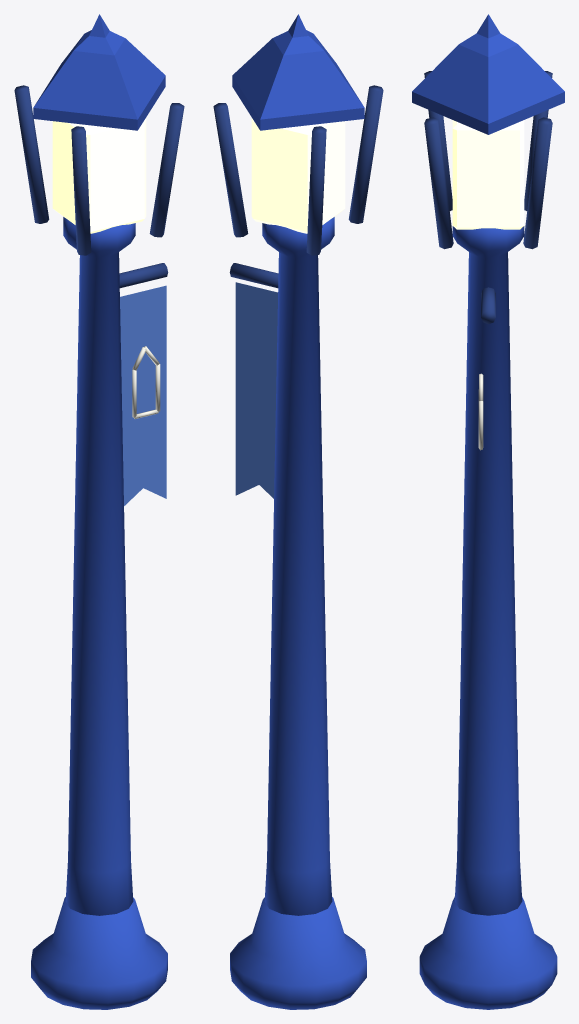
File: prop_lamp.glb
3 views of the same model, side by side, from view 1: azimuth 30°, elevation 25°; view 2: azimuth 150°, elevation 25°; view 3: azimuth 270°, elevation 25° (orthographic).
Visible parts, largest first — view 1: structure.003; view 2: structure.003; view 3: structure.003.
Boxes of the visible parts, box(x1,y1,x2,y2) form: structure.003: box(14, 14, 184, 1009); structure.003: box(213, 14, 383, 1009); structure.003: box(412, 14, 564, 1009).
Bounding box in the file's own units: 0.5 × 3.5 × 0.5.
